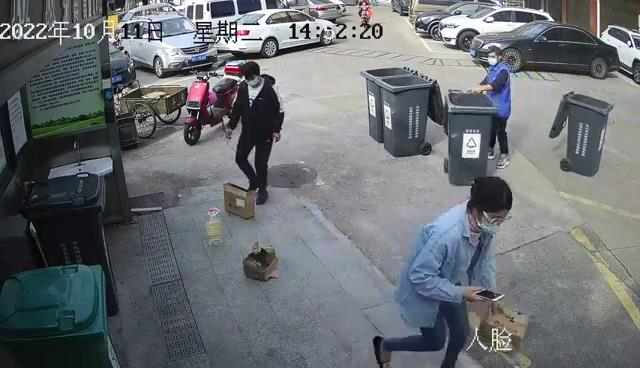person: (222, 59, 287, 209)
suliaozhipin: (204, 205, 226, 250)
worker: (369, 174, 518, 368), (471, 44, 516, 172)
zhizhipin: (240, 237, 284, 286), (220, 179, 259, 220)
